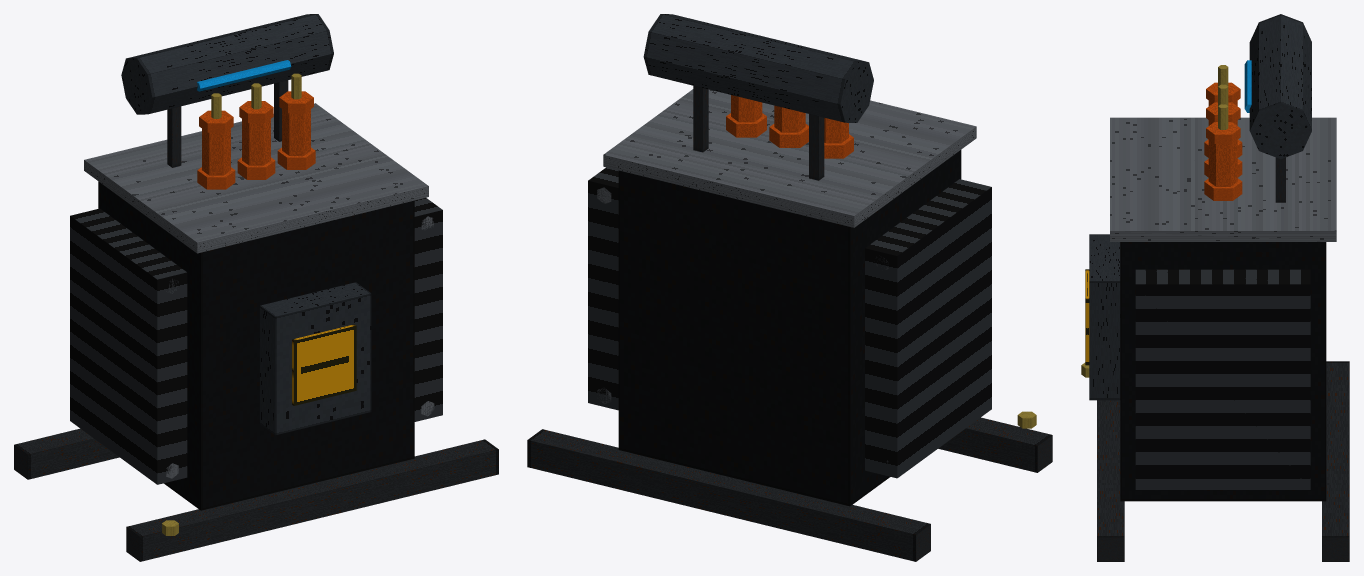
Rendered from power_transformer.glb.
The picture shows the model from 3 angles, left to right: view 1: azimuth 30°, elevation 25°; view 2: azimuth 150°, elevation 25°; view 3: azimuth 270°, elevation 25°; orthographic projection. The views are drawn at different scales.
Visible parts, largest first — view 1: power_transformer; view 2: power_transformer; view 3: power_transformer.
Boxes of the visible parts, x1,y1,x2,y2 form: power_transformer: (14, 14, 498, 561); power_transformer: (527, 14, 1052, 561); power_transformer: (1081, 14, 1349, 561).
Bounding box in the file's own units: 1.2 × 1.33 × 0.775.
Materials: 1 (1 with a texture image).
